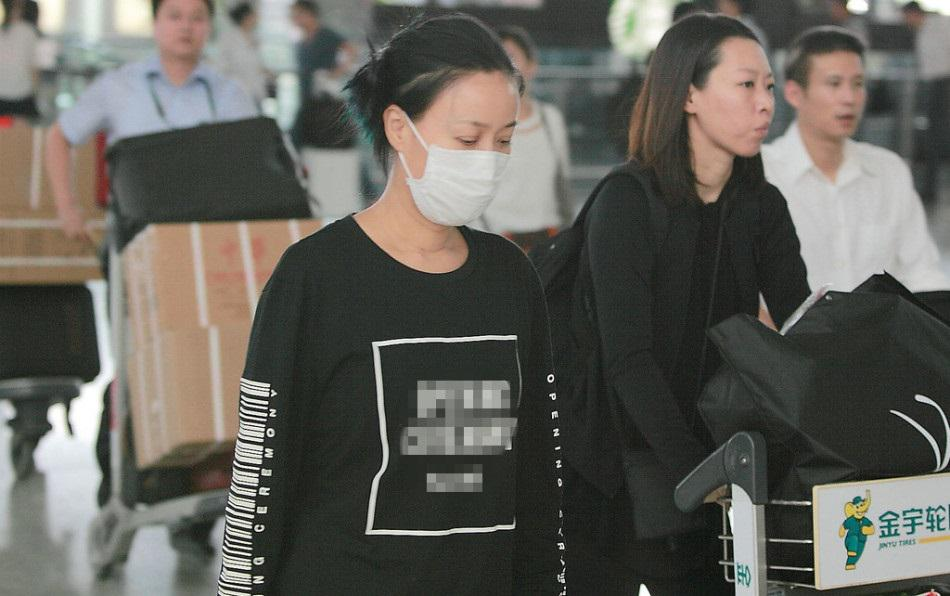NONE: (706, 65, 777, 155), (809, 68, 868, 138), (157, 4, 210, 57)
OK: (408, 113, 523, 228)
